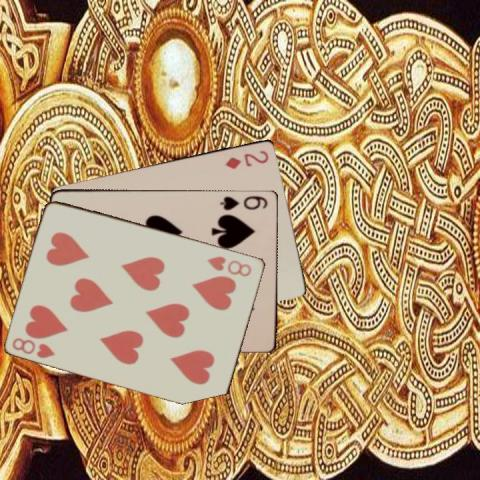2d: (222, 147, 270, 170)
6s: (218, 193, 270, 211)
8h: (204, 253, 253, 278), (9, 334, 57, 359)
